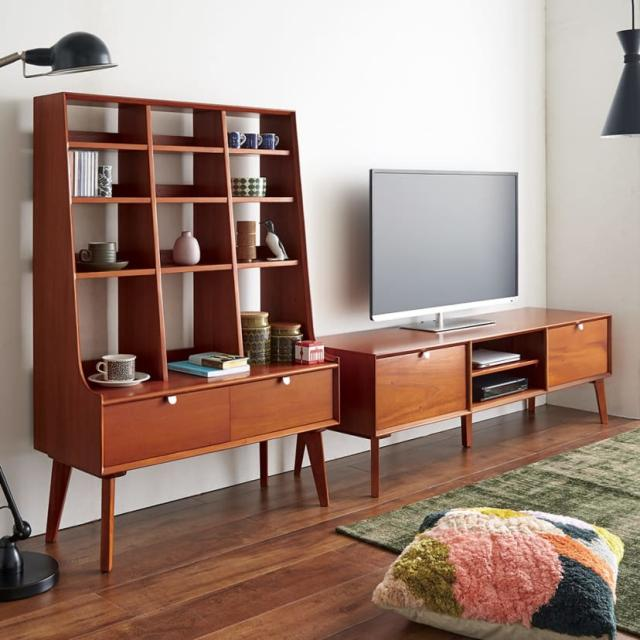vintage shelf: (26, 81, 340, 578), (293, 269, 618, 504)
